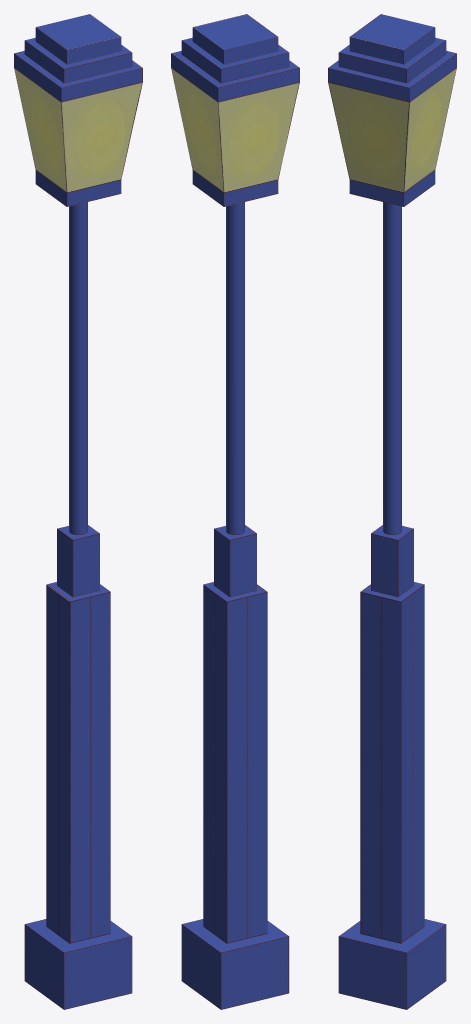
File: Dr_외부_가로등.fbx
3 views of the same model, side by side, from view 1: azimuth 30°, elevation 25°; view 2: azimuth 210°, elevation 25°; view 3: azimuth 330°, elevation 25° (orthographic).
Visible parts, largest first — view 1: Box001, Box004; view 2: Box001, Box004; view 3: Box001, Box004.
Part boxes in pixels (box(x1,y1,x2,y2)): Box001: box(24, 202, 132, 1009); Box004: box(14, 14, 142, 206); Box001: box(181, 202, 289, 1009); Box004: box(171, 14, 299, 206); Box001: box(338, 202, 446, 1009); Box004: box(328, 14, 456, 206).
Size of the model in its own units: 60 by 670 by 60.
2 materials, 2 textured.
